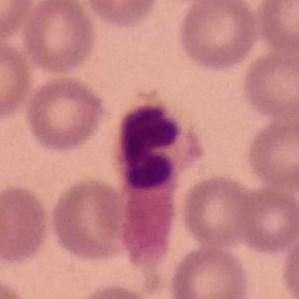Neutrophil: (114, 92, 210, 272)
RBC: (47, 174, 129, 264), (22, 73, 110, 154), (173, 0, 262, 73), (177, 171, 258, 248), (20, 0, 99, 76), (166, 242, 252, 299), (231, 184, 299, 256), (238, 44, 299, 122), (0, 182, 53, 265), (243, 113, 299, 190), (0, 38, 34, 122), (254, 0, 299, 57), (81, 0, 161, 29), (69, 281, 158, 299), (0, 0, 35, 42), (278, 230, 299, 299), (0, 272, 29, 299)
